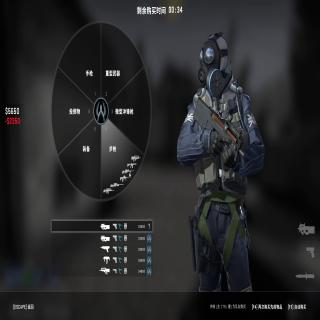CT-Head: (196, 34, 230, 92)
